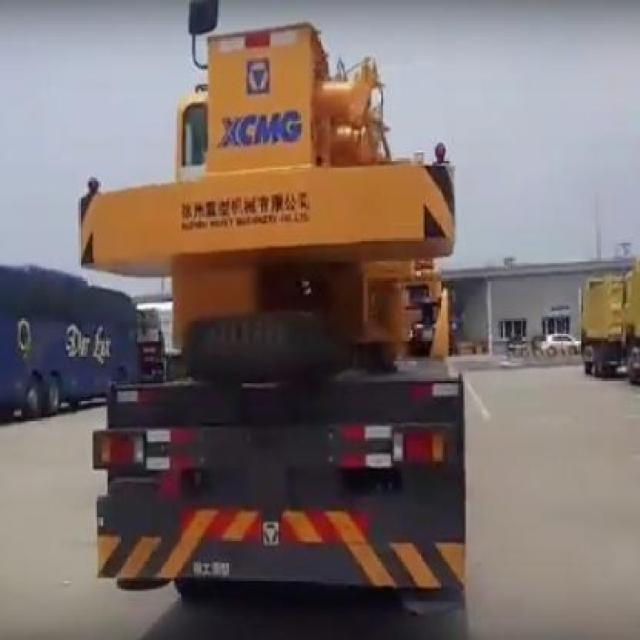Mobile Crane: (76, 5, 470, 617)
